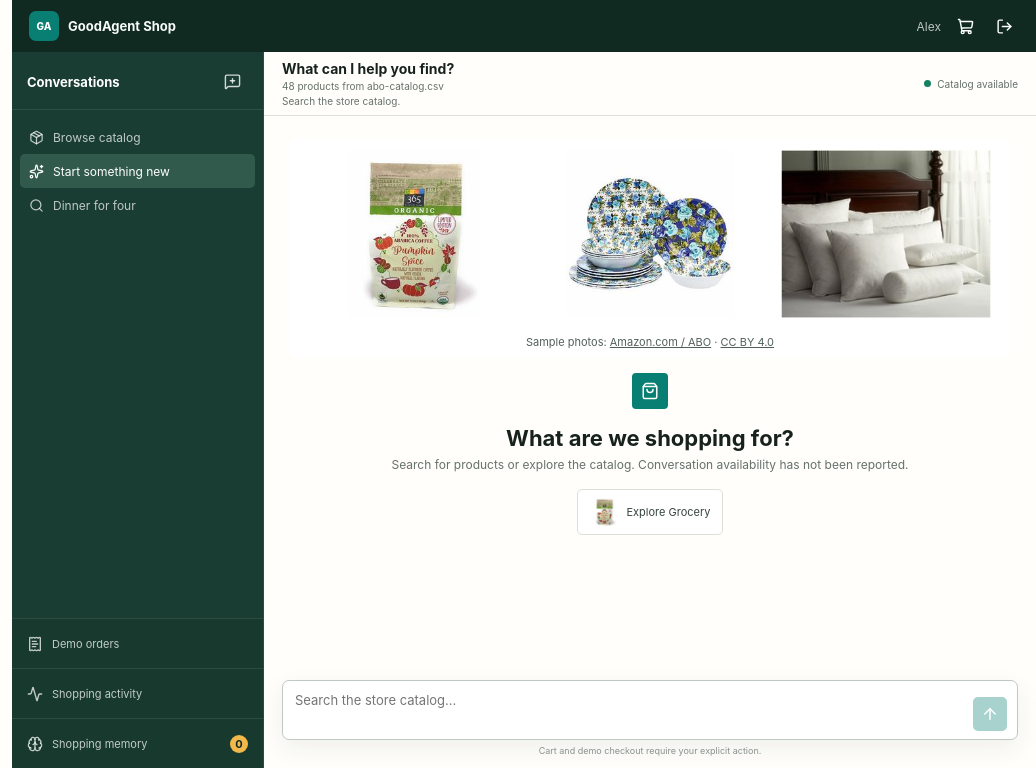
Test: ShopperApp › does not duplicate committed messages when replay follows a history refresh
Click the button "Dinner for four" at (138, 205), box left=20, top=188, right=255, bottom=222
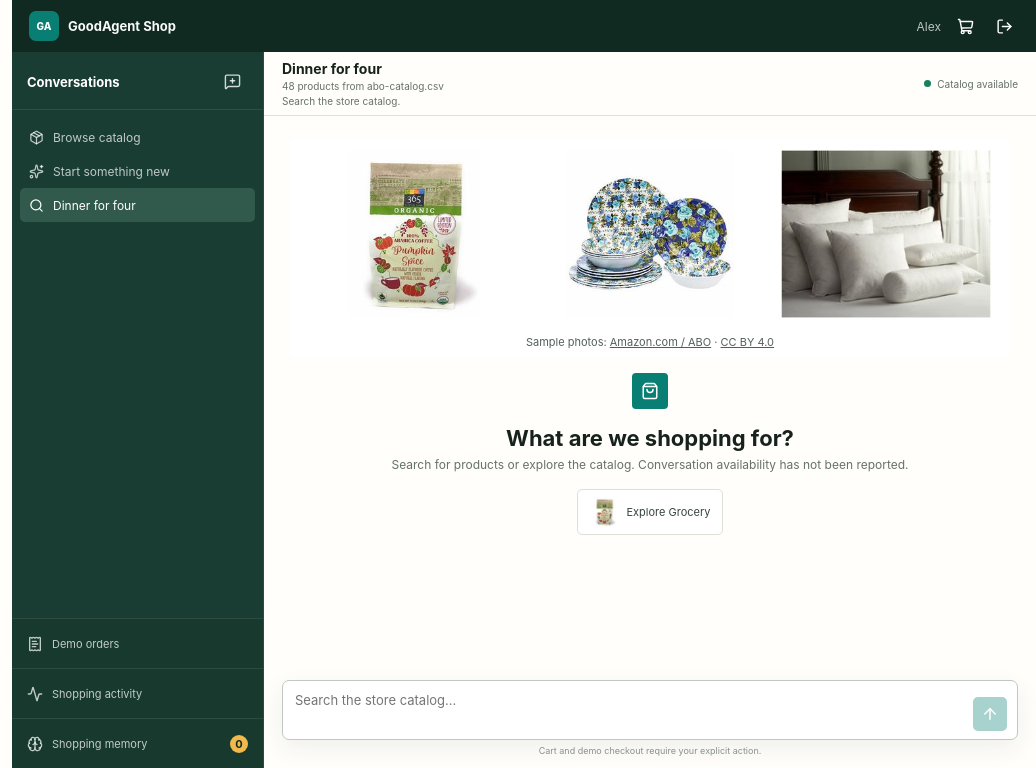
Type "Dinner for four under $35" into the text box named "Shopping request" at (628, 710), box left=291, top=689, right=965, bottom=731
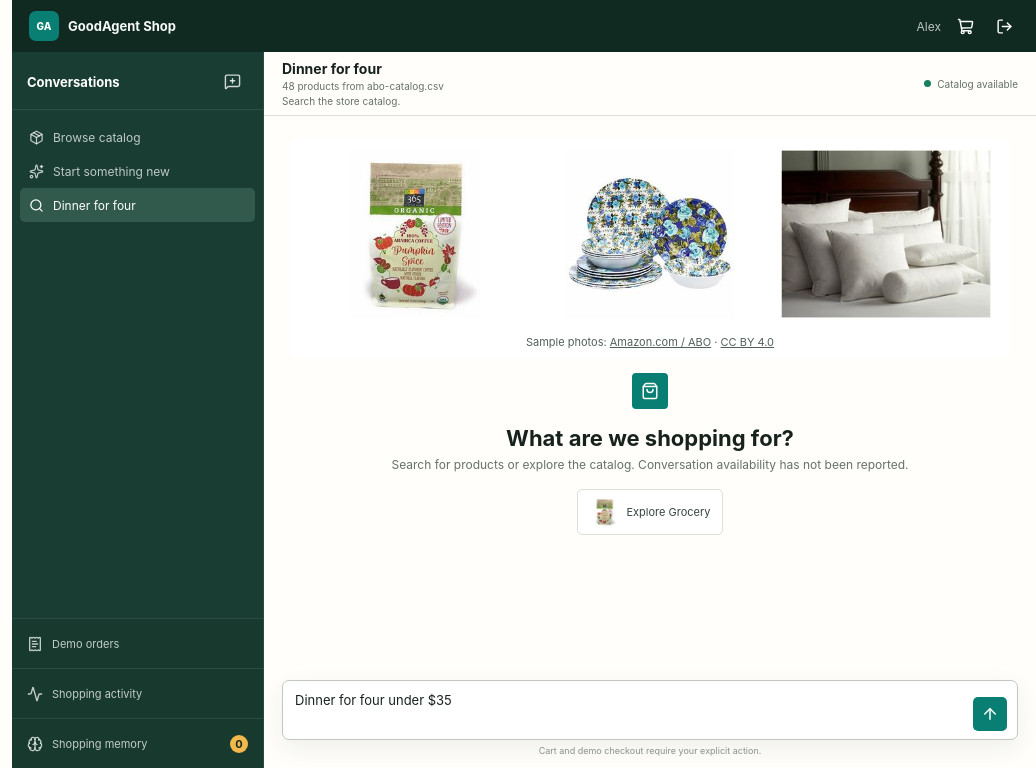
Click the button named "Send request" at (990, 714), box left=973, top=697, right=1007, bottom=731
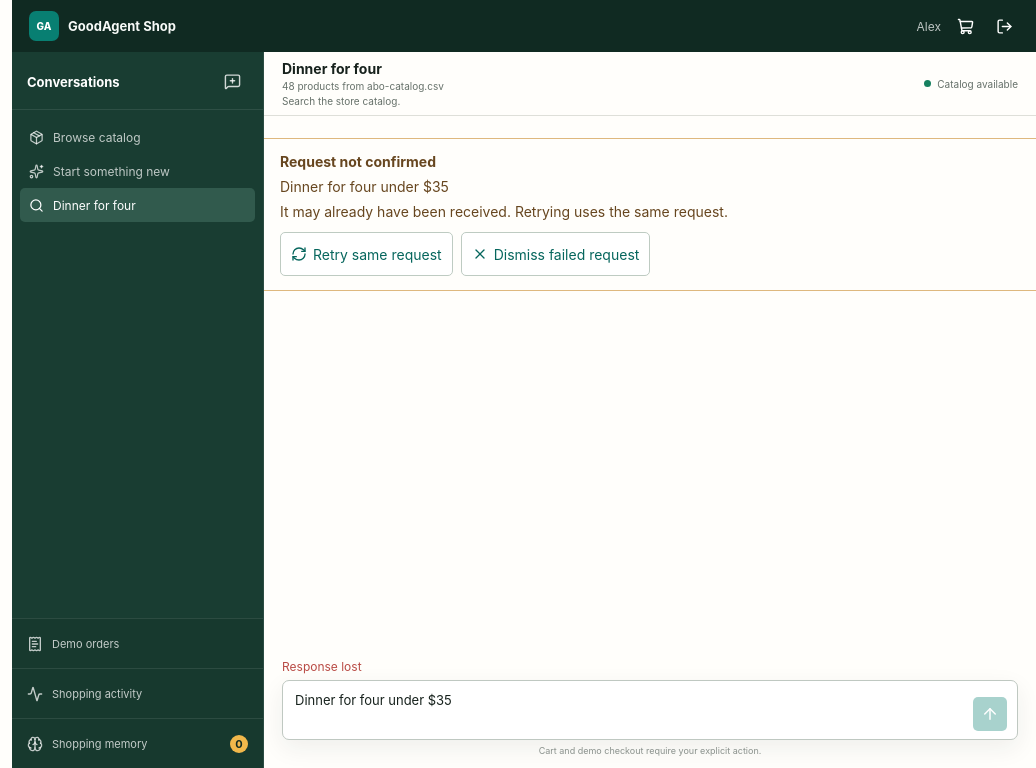
expect the button "Retry same request" is shown: met, box left=280, top=232, right=453, bottom=276
Click the button "Dinner for four" at (138, 205), box left=20, top=188, right=255, bottom=222
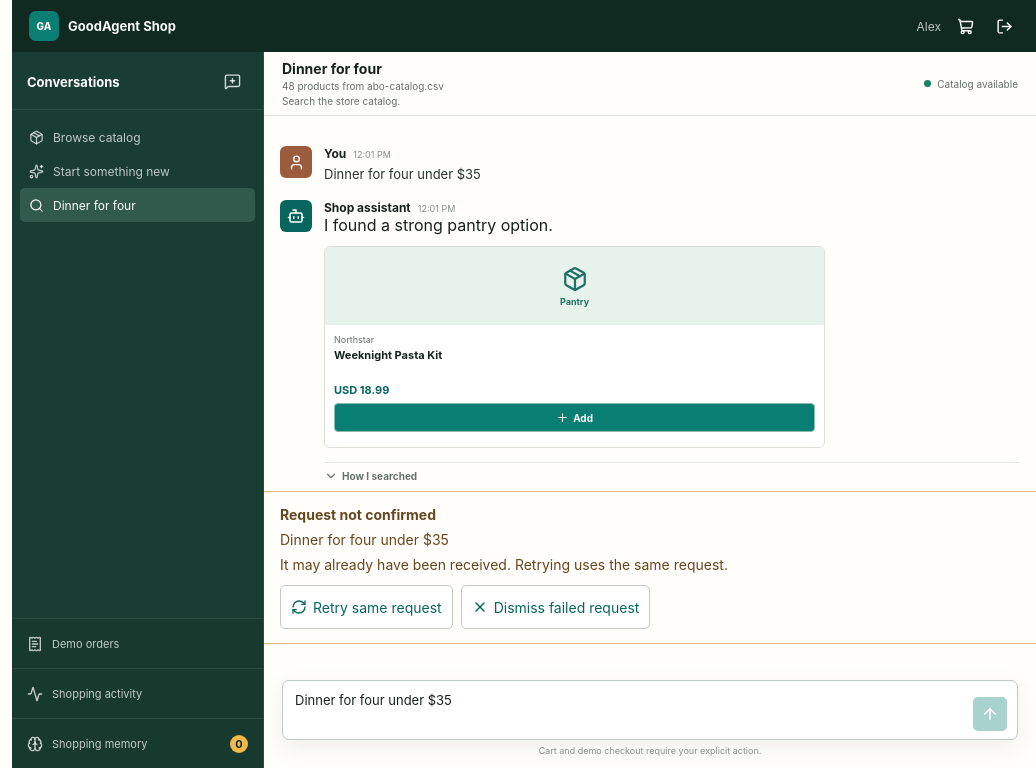
expect the text "I found a strong pantry option." is shown: met, box left=324, top=215, right=553, bottom=235
Click the button "Retry same request" at (366, 607), box left=280, top=585, right=453, bottom=629
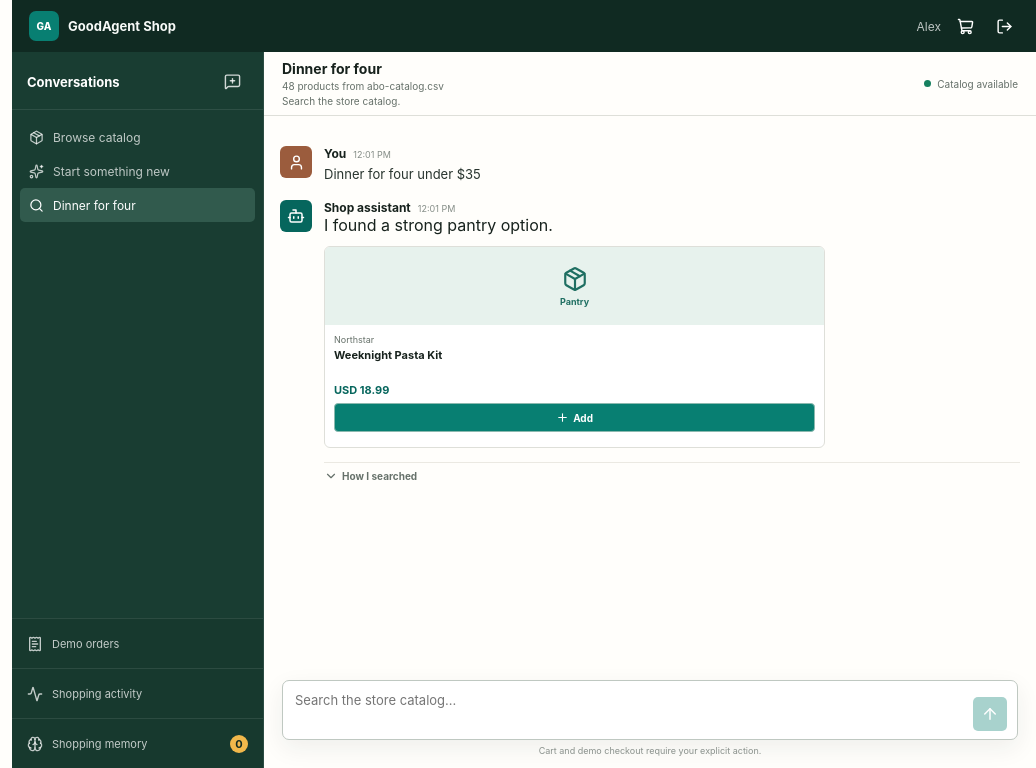
expect the text "I found a strong pantry option." is shown once: met, box left=324, top=215, right=553, bottom=235
expect the button "Retry same request" is gone: met
